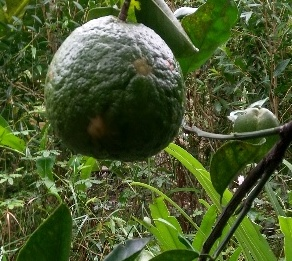Cam: (41, 15, 187, 163)
